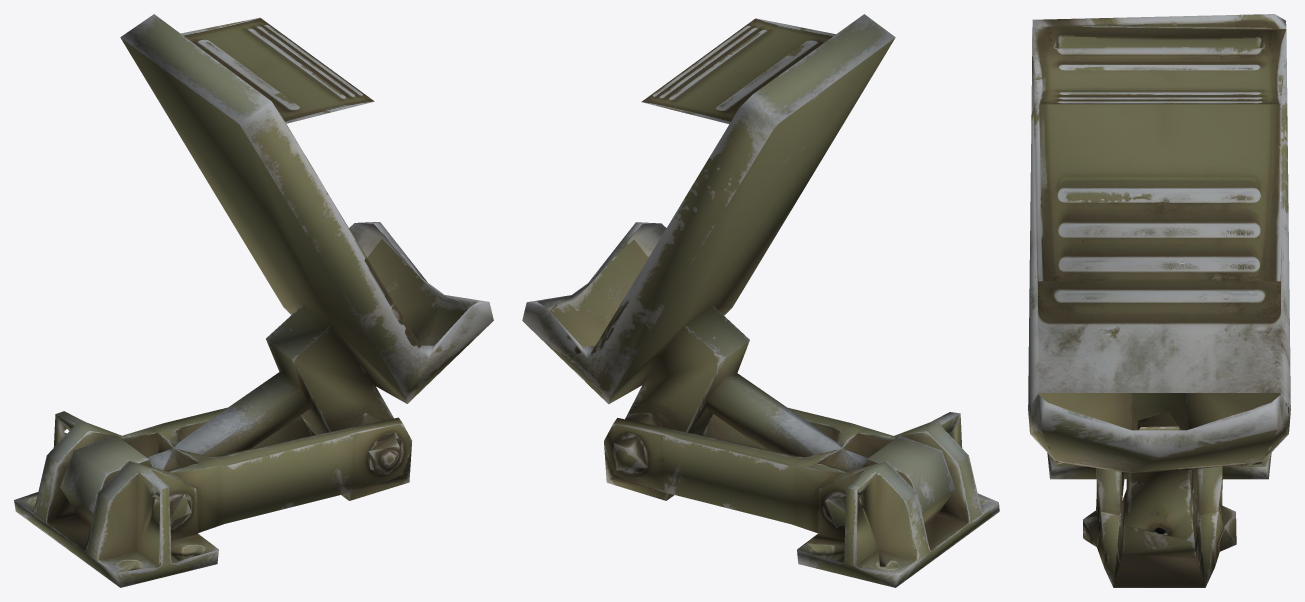
Rendered from pedal.glb.
The picture shows the model from 3 angles, left to right: view 1: azimuth 30°, elevation 25°; view 2: azimuth 150°, elevation 25°; view 3: azimuth 270°, elevation 25°; orthographic projection. The views are drawn at different scales.
Parts seen in each view (by area): view 1: tripo_node_9ede7358-1adf-4570-b588-3bd8e; view 2: tripo_node_9ede7358-1adf-4570-b588-3bd8e; view 3: tripo_node_9ede7358-1adf-4570-b588-3bd8e.
Part boxes in pixels (<box>): tripo_node_9ede7358-1adf-4570-b588-3bd8e: <box>14,14,493,587</box>; tripo_node_9ede7358-1adf-4570-b588-3bd8e: <box>522,14,999,587</box>; tripo_node_9ede7358-1adf-4570-b588-3bd8e: <box>1028,14,1290,587</box>.
Bounding box in the file's own units: 0.8522 × 0.9972 × 0.4865.
Materials: 1 (1 with a texture image).
